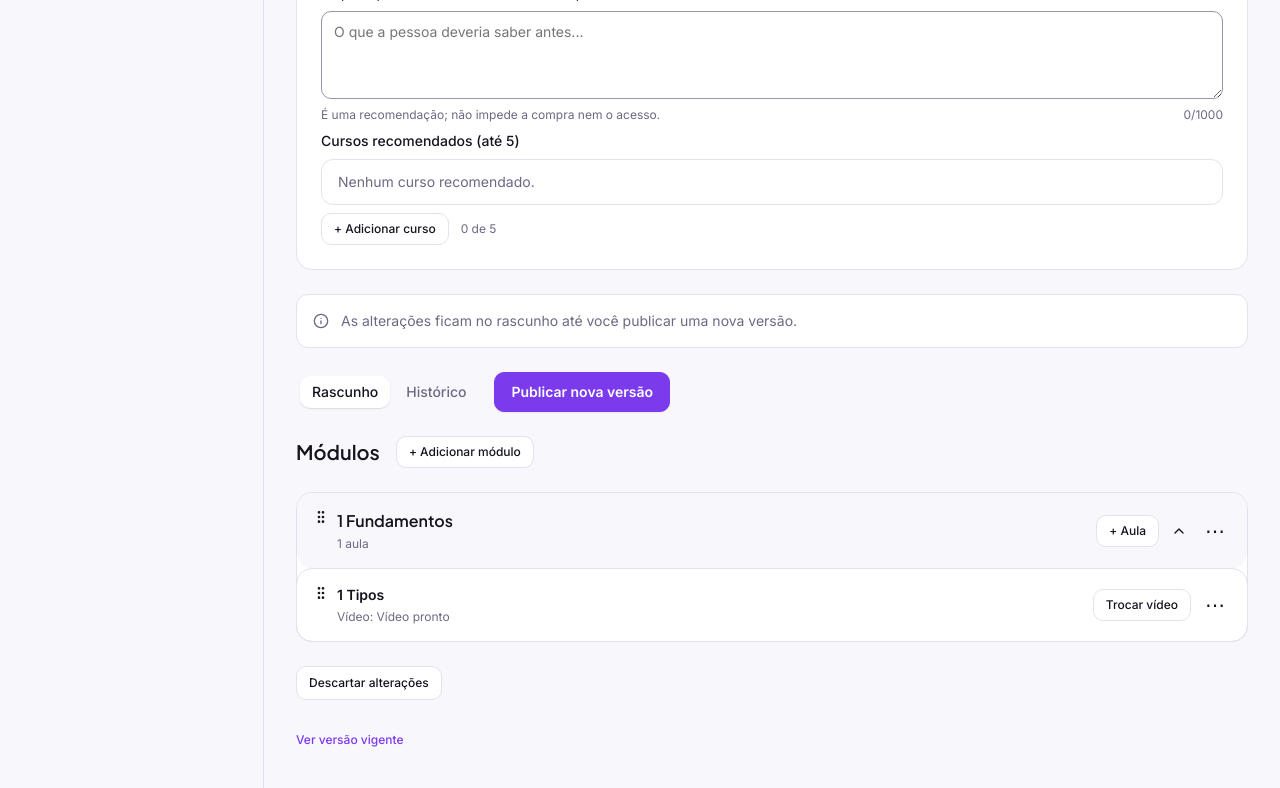
Scenario: authoring versions › republishes the displayed revision and history shows newest first, author, note and current marker
(page scrolled)
Click the button "Publicar nova versão" at [582, 392], box [494,372,670,412]
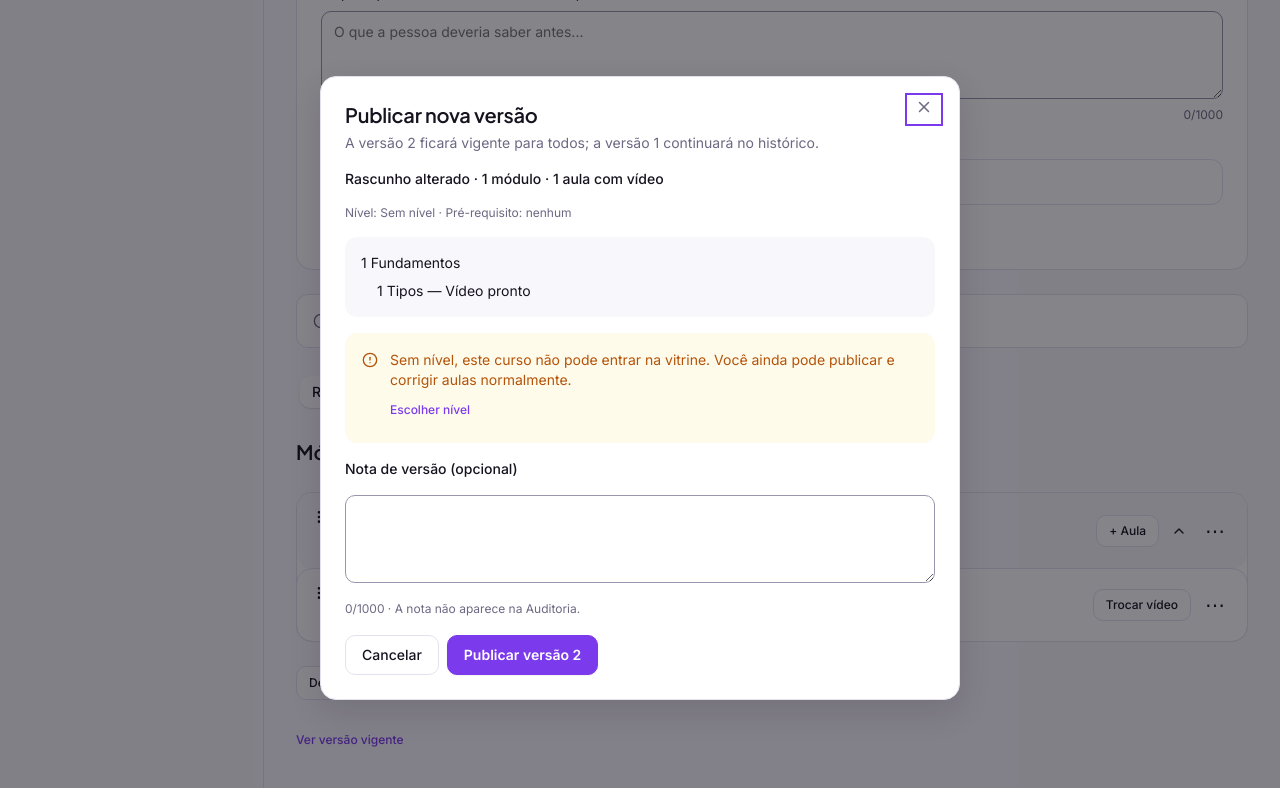
Check: the dialog shows "A versão 2 ficará vigente para todos; a versão 1 continuará no histórico.", box [345,134,819,151]
Type "Segunda versão" into the text box labelled "Nota de versão (opcional)" at [640, 539], box [345,495,935,583]
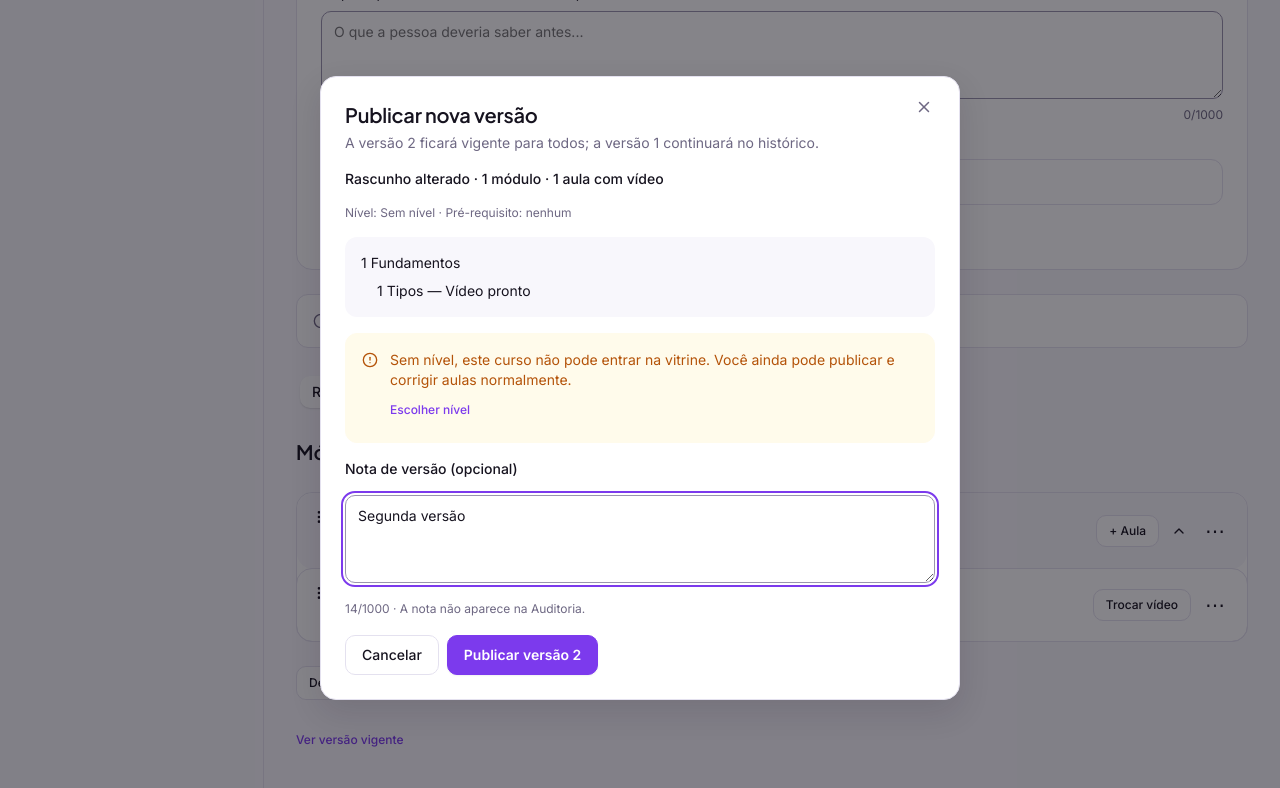
Click the button "Publicar versão 2" at [522, 655], box [447,635,598,675]
(page scrolled)
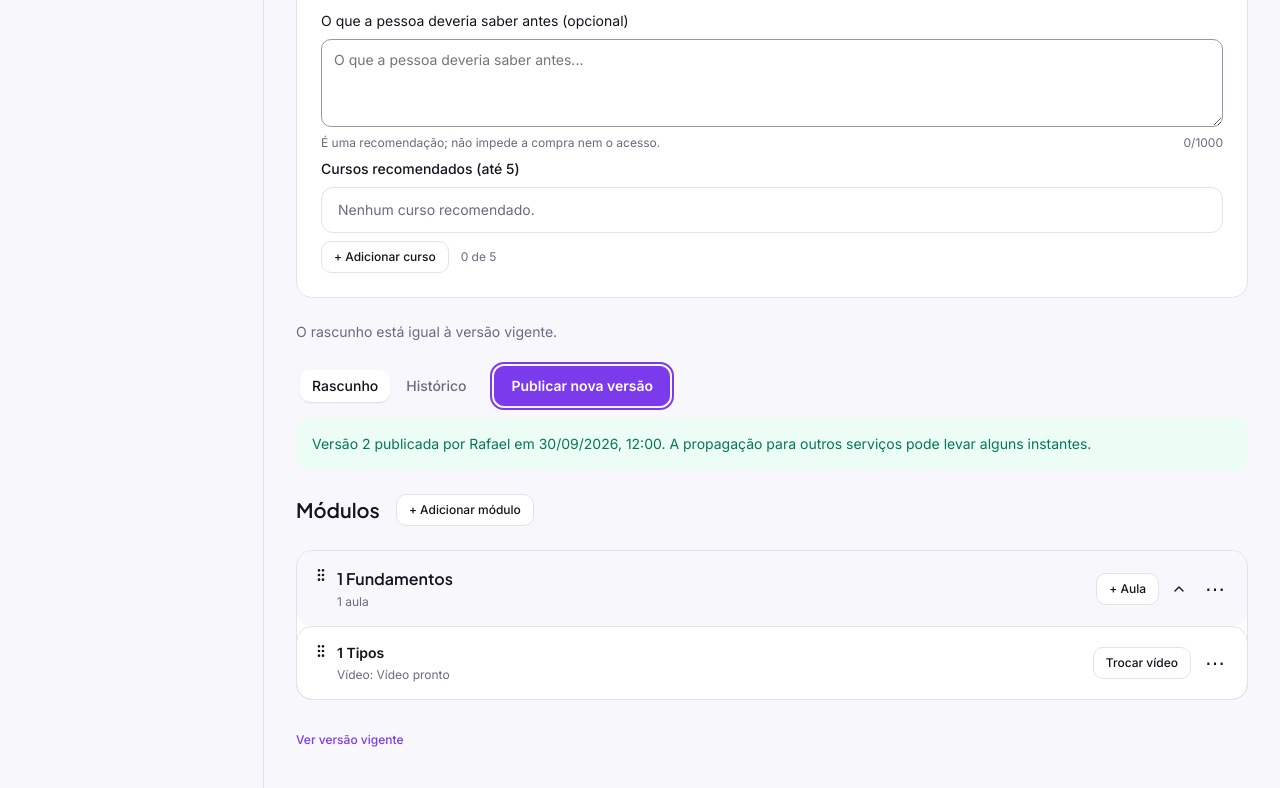
Check: the text "Versão 2 publicada por Rafael" is shown, box [296,418,1248,470]
Click the tab "Histórico" at [436, 386], box [394,370,478,402]
(page scrolled)
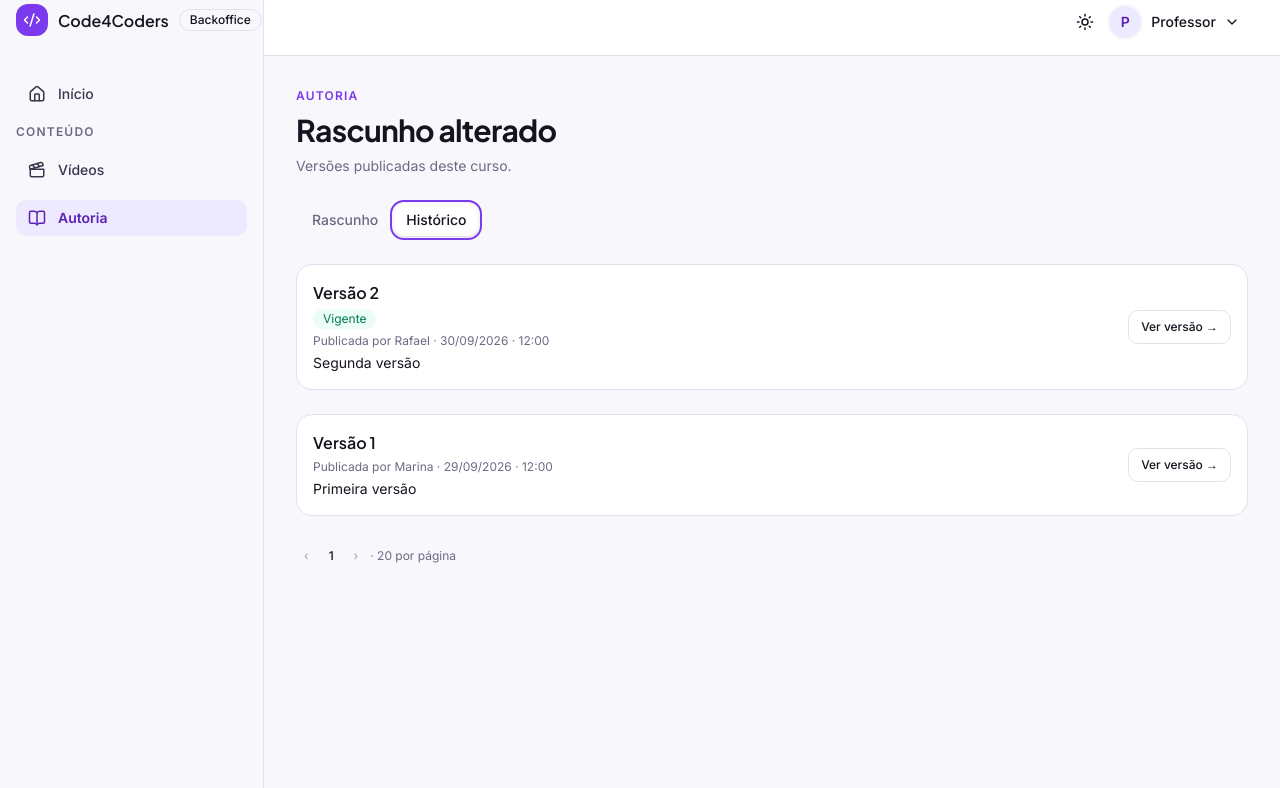
Check: the headings read "Versão 2 · Vigente", "Versão 1 · Anterior", in this order, box [313,281,447,303]; [313,431,446,453]
Check: the text "Segunda versão" is shown, box [313,354,420,371]
Check: the text "Publicada por Marina · 29/09/2026 · 12:00" is shown, box [313,459,553,475]
Click the link with aria-label "Ver versão 1" at [1180, 465], box [1128,448,1231,482]
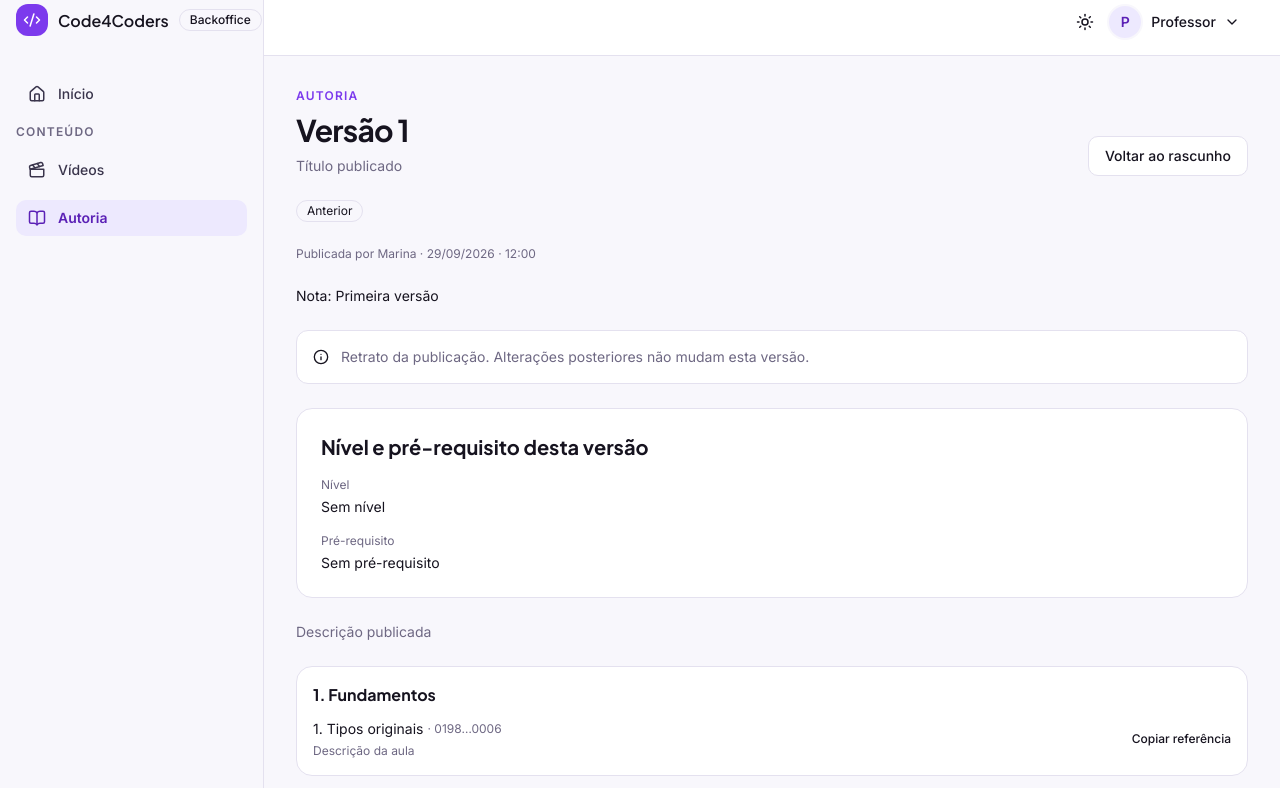
Check: the heading "Versão 1" is shown, box [296,112,409,148]
Check: the text "Anterior" is shown, box [296,200,363,222]
